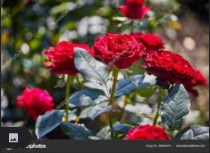RedRose: (90, 29, 143, 72), (146, 44, 193, 85), (44, 39, 90, 76)
